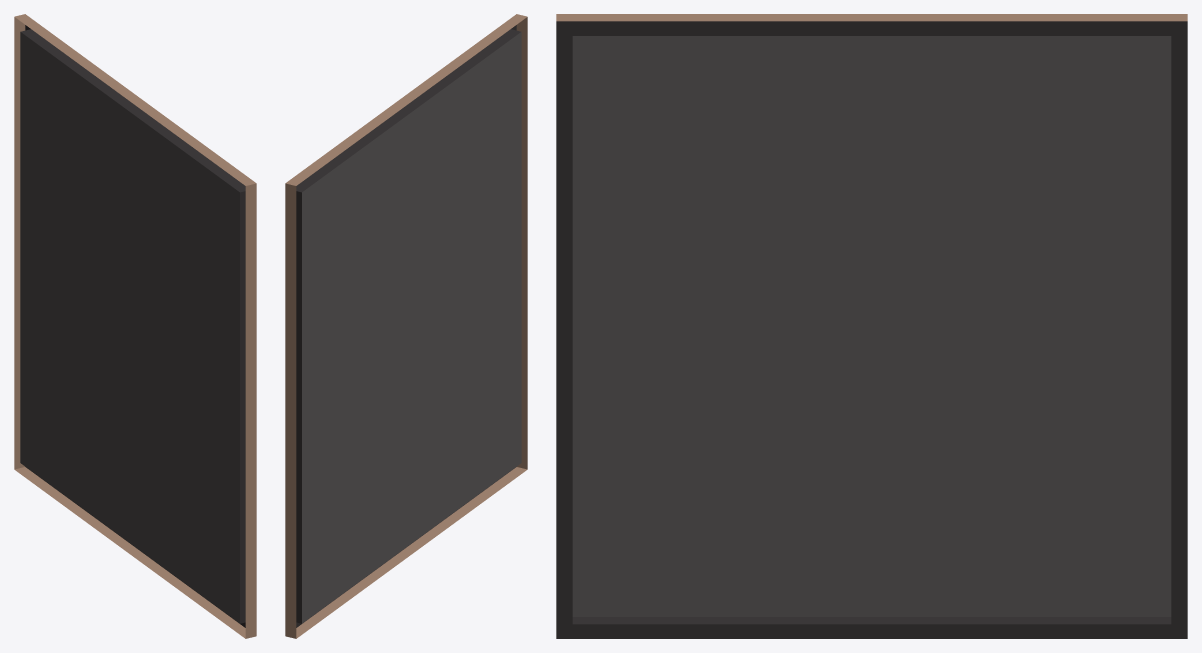
File: Board.fbx
3 renders of one model, left to right at view 1: azimuth 30°, elevation 25°; view 2: azimuth 150°, elevation 25°; view 3: azimuth 270°, elevation 25°, orthographic. The views are drawn at different scales.
Parts seen in each view (by area): view 1: Board; view 2: Board; view 3: Board.
Boxes of the visible parts, box(x1,y1,x2,y2) form: Board: box(14, 14, 256, 638); Board: box(285, 14, 527, 638); Board: box(556, 14, 1187, 638).
Bounding box in the file's own units: 4.66 × 183 × 169.
